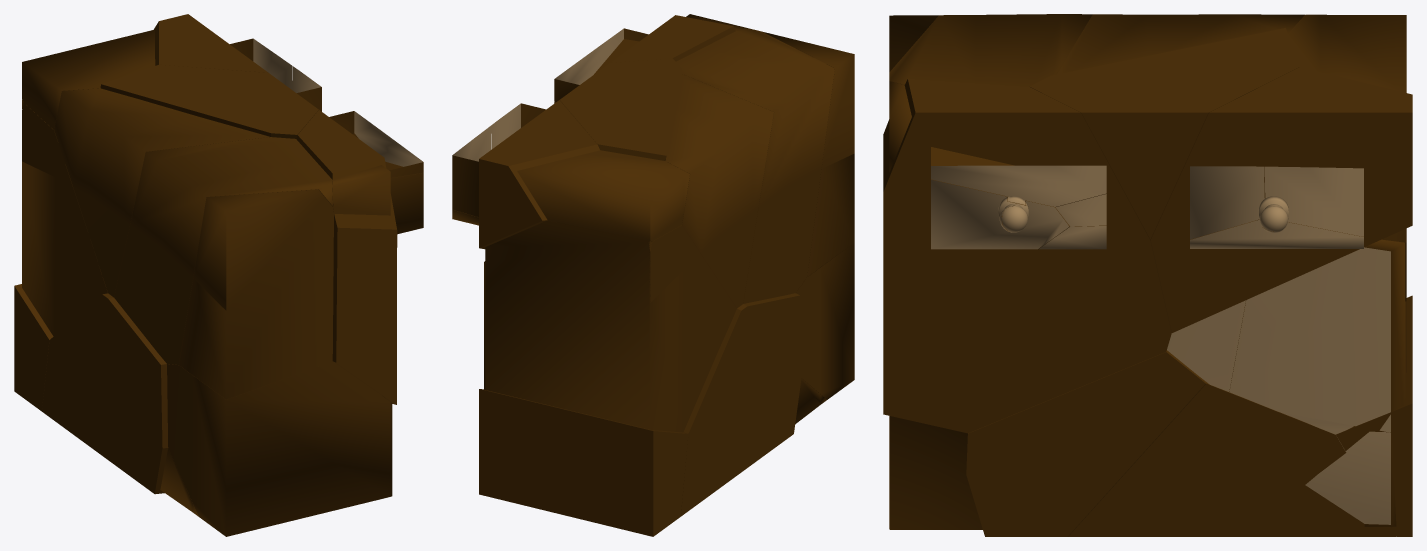
The model's file is Broken_Bedside_01.fbx.
The picture shows the model from 3 angles, left to right: view 1: azimuth 30°, elevation 25°; view 2: azimuth 150°, elevation 25°; view 3: azimuth 270°, elevation 25°; orthographic projection. The views are drawn at different scales.
Visible parts, largest first — view 1: Cube_cell.014, Cube_cell, Cube_cell.005, Cube_cell.007, Cube_cell.012, Cube_cell.009, Cube_cell.001, Cube_cell.006, Cube_cell.003, Cube_cell.004, Cube_cell.013, Cube_cell.008 (+5 smaller); view 2: Cube_cell.001, Cube_cell.013, Cube_cell.005, Cube_cell.007, Cube_cell.012, Cube_cell.003, Cube_cell.006, Cube_cell.004, Cube_cell, Cube_cell.014, Cube_cell.009, Cube.005_cell.002 (+3 smaller); view 3: Cube_cell.009, Cube_cell.004, Cube_cell.010, Cube.002_cell.002, Cube_cell.007, Cube_cell.006, Cube_cell.005, Cube.001_cell.001, Cube_cell.012, Cube_cell.003, Cube.004_cell, Cube.004_cell.003 (+11 smaller).
Part boxes in pixels (x1=…): Cube_cell.014: x1=167, y1=361, x2=390, y2=536; Cube_cell: x1=179, y1=189, x2=333, y2=399; Cube_cell.005: x1=114, y1=137, x2=333, y2=364; Cube_cell.007: x1=42, y1=293, x2=316, y2=494; Cube_cell.012: x1=54, y1=88, x2=269, y2=297; Cube_cell.009: x1=296, y1=110, x2=397, y2=404; Cube_cell.001: x1=22, y1=103, x2=107, y2=336; Cube_cell.006: x1=100, y1=64, x2=318, y2=138; Cube_cell.003: x1=22, y1=29, x2=155, y2=129; Cube_cell.004: x1=153, y1=14, x2=268, y2=72; Cube_cell.013: x1=14, y1=284, x2=53, y2=411; Cube_cell.008: x1=332, y1=165, x2=390, y2=215; Cube_cell.001: x1=485, y1=220, x2=736, y2=432; Cube_cell.013: x1=479, y1=389, x2=688, y2=536; Cube_cell.005: x1=676, y1=28, x2=834, y2=303; Cube_cell.007: x1=681, y1=293, x2=801, y2=516; Cube_cell.012: x1=665, y1=74, x2=773, y2=308; Cube_cell.003: x1=517, y1=150, x2=689, y2=242; Cube_cell.006: x1=560, y1=58, x2=681, y2=160; Cube_cell.004: x1=479, y1=100, x2=599, y2=249; Cube_cell: x1=763, y1=32, x2=854, y2=276; Cube_cell.014: x1=796, y1=242, x2=854, y2=399; Cube_cell.009: x1=610, y1=15, x2=735, y2=62; Cube.005_cell.002: x1=452, y1=125, x2=491, y2=217; Cube_cell.009: x1=883, y1=78, x2=1171, y2=433; Cube_cell.004: x1=1150, y1=67, x2=1412, y2=332; Cube_cell.010: x1=1068, y1=384, x2=1396, y2=536; Cube.002_cell.002: x1=1229, y1=239, x2=1405, y2=432; Cube_cell.007: x1=966, y1=303, x2=1245, y2=536; Cube_cell.006: x1=1029, y1=28, x2=1299, y2=240; Cube_cell.005: x1=889, y1=14, x2=1092, y2=86; Cube.001_cell.001: x1=889, y1=416, x2=982, y2=529; Cube_cell.012: x1=1057, y1=14, x2=1304, y2=74; Cube_cell.003: x1=1288, y1=14, x2=1406, y2=92; Cube.004_cell: x1=931, y1=179, x2=1069, y2=249; Cube.004_cell.003: x1=931, y1=147, x2=1106, y2=206.
Size of the model in its own units: 298 by 389 by 440.
